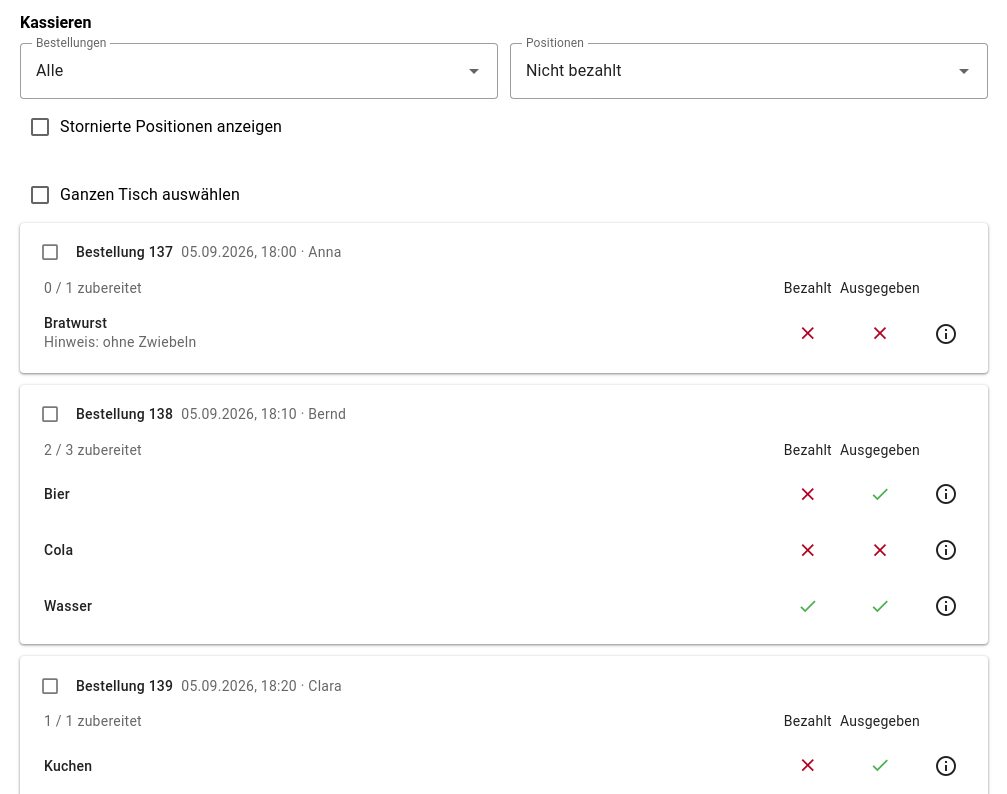
Test: the empty answer under a filter the waiter picked › shows the shared text of an empty list on the settle screen
Press the mouse on the dropdown labelled "Alle Bestellungen" at (259, 71), box [20,43,498,99]
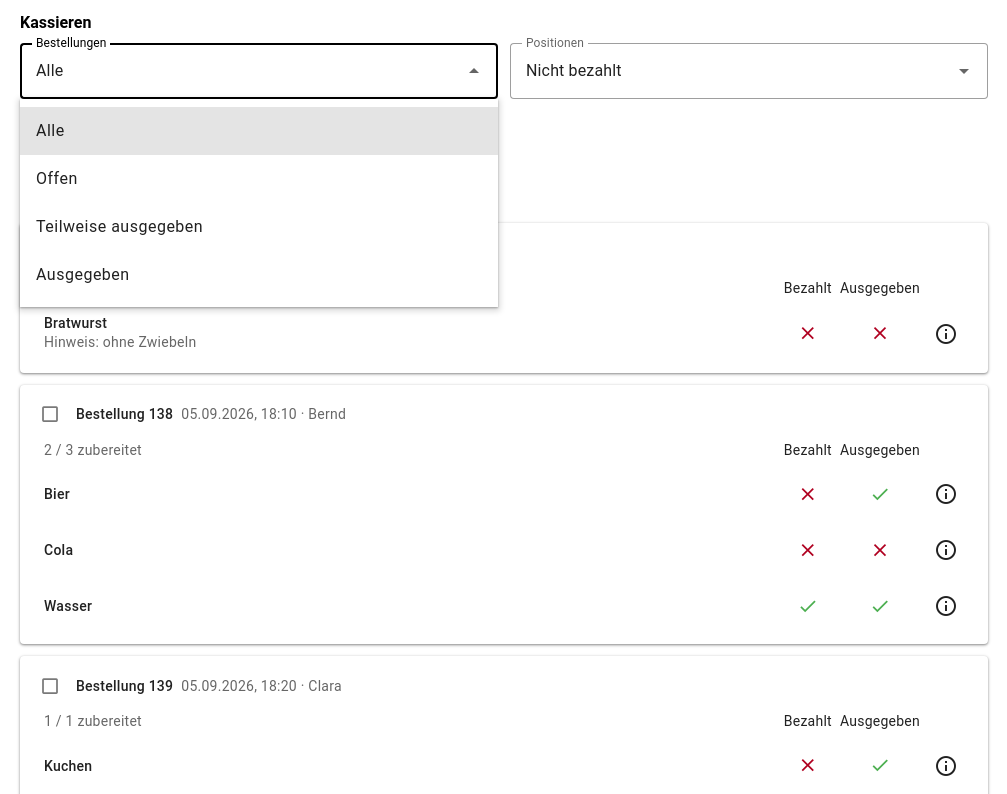
Click the option "Ausgegeben" at (83, 274), box [36,265,130,284]
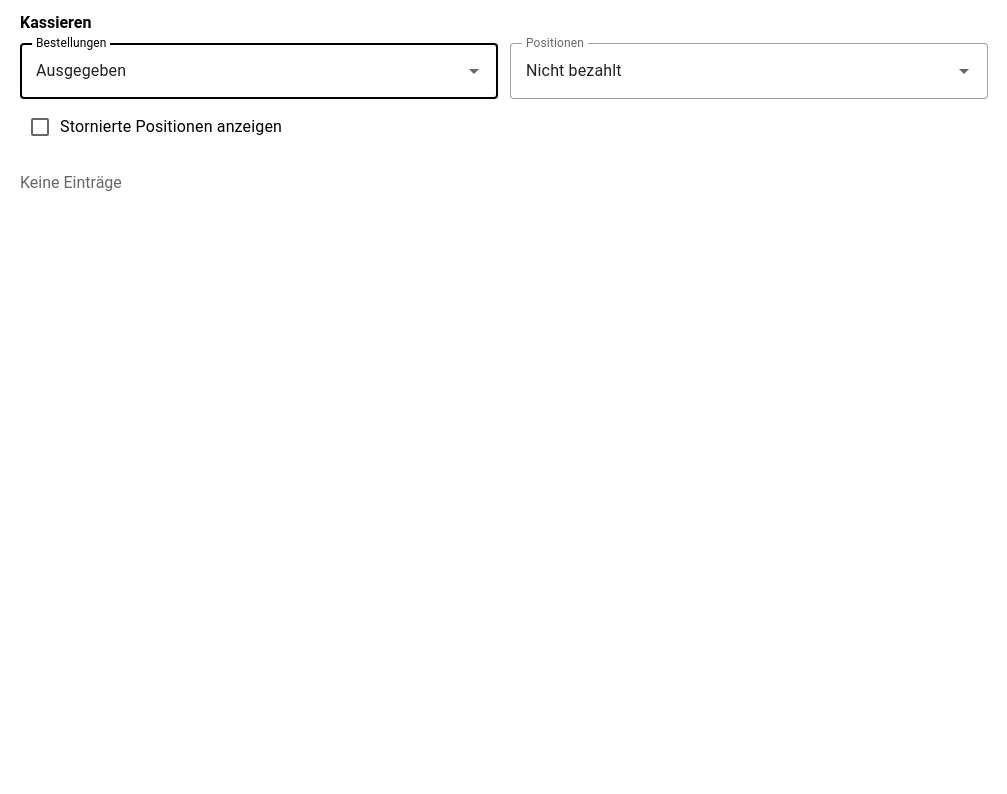
Expected: the text with test id "no-orders" reads "Keine Einträge", [20,173,122,192]
